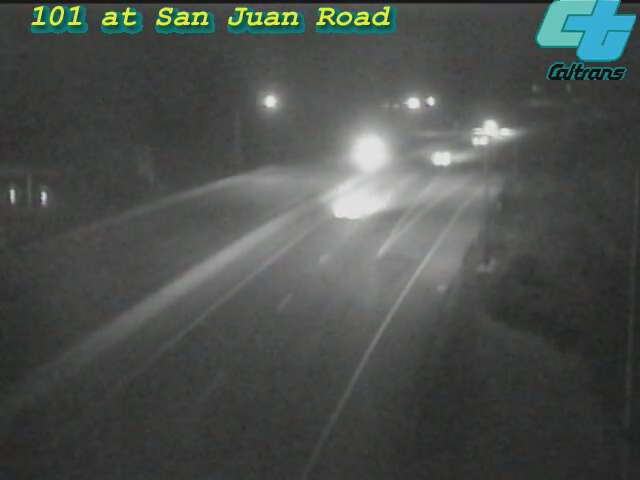vehicle: (327, 111, 407, 191), (314, 163, 394, 243), (468, 101, 518, 151), (474, 107, 524, 157), (455, 113, 505, 163), (418, 134, 468, 184)
